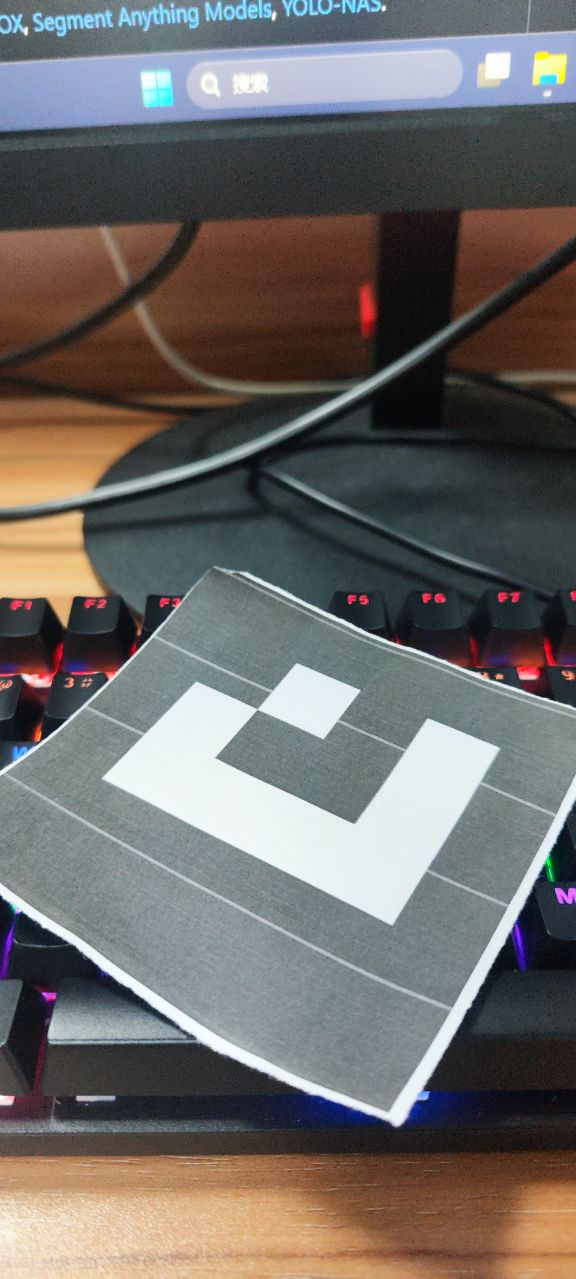mark1: (102, 652, 502, 932)
